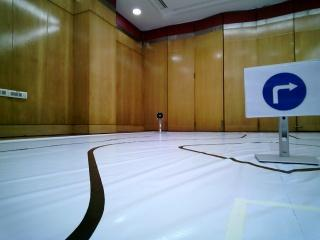right: (245, 70, 320, 113)
